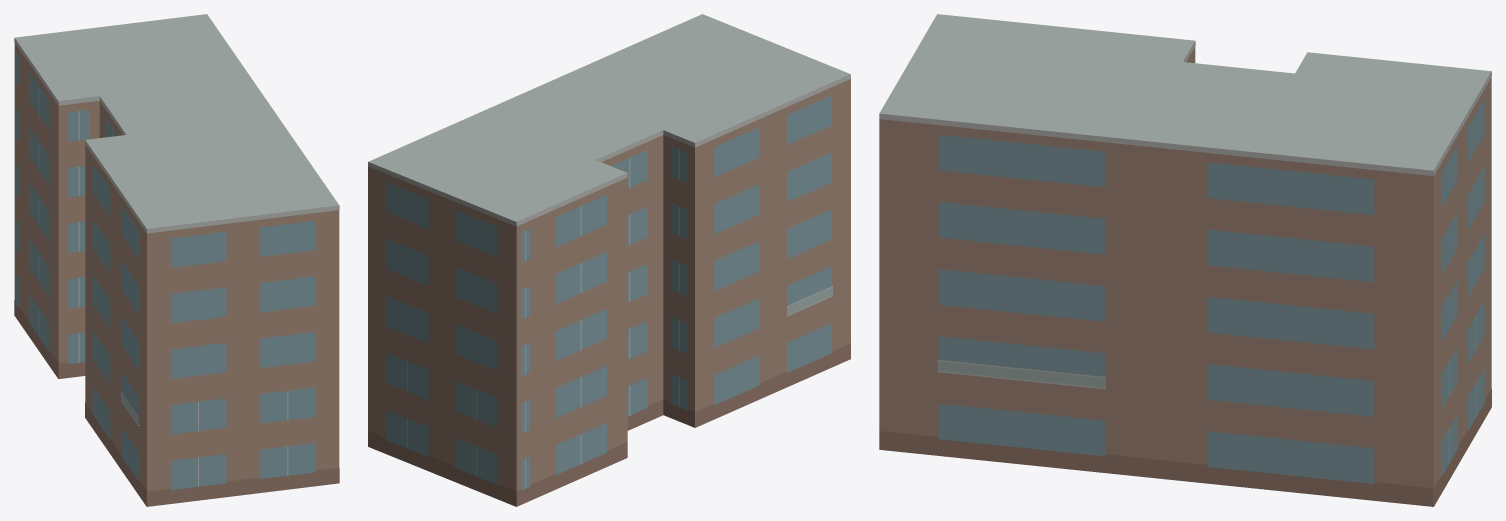
File: survey-upis-32973285.glb
3 views of the same model, side by side, from view 1: azimuth 30°, elevation 25°; view 2: azimuth 150°, elevation 25°; view 3: azimuth 270°, elevation 25° (orthographic). The views are drawn at different scales.
Parts seen in each view (by area): view 1: survey-upis-32973285.tmp; view 2: survey-upis-32973285.tmp; view 3: survey-upis-32973285.tmp.
Part boxes in pixels (bbox=[...]): survey-upis-32973285.tmp: bbox=[14, 14, 339, 506]; survey-upis-32973285.tmp: bbox=[368, 14, 850, 506]; survey-upis-32973285.tmp: bbox=[879, 14, 1491, 506].
Bounding box in the file's own units: 15.01 × 15 × 24.78.
